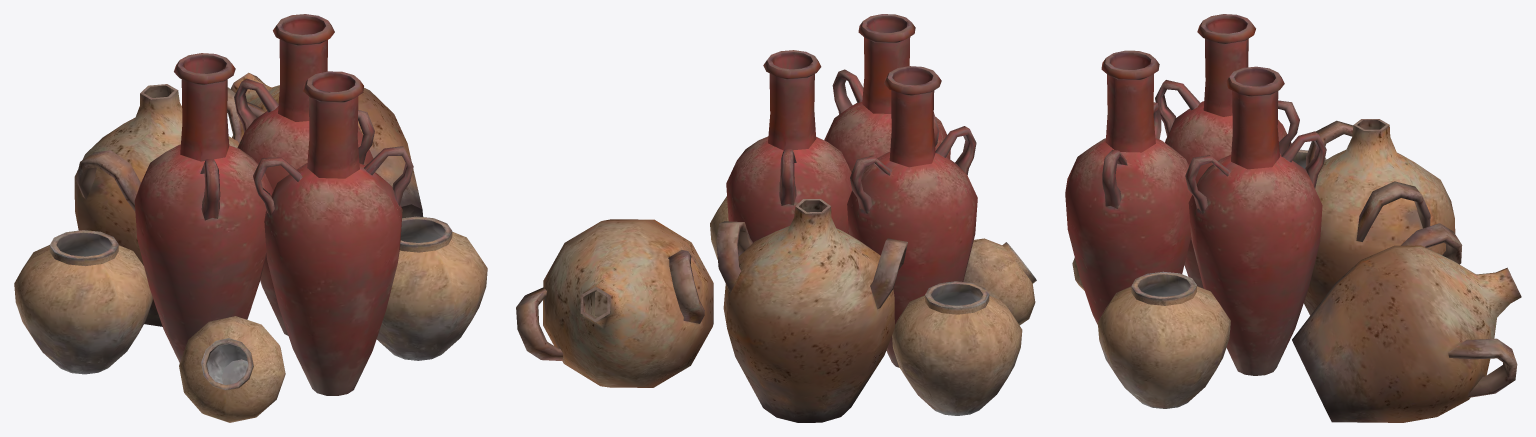
Rendered from SHO_General_Store_Pots-transformed.glb.
The picture shows the model from 3 angles, left to right: view 1: azimuth 30°, elevation 25°; view 2: azimuth 150°, elevation 25°; view 3: azimuth 270°, elevation 25°; orthographic projection. The views are drawn at different scales.
Visible parts, largest first — view 1: default; view 2: default; view 3: default.
Boxes of the visible parts, x1,y1,x2,y2 form: default: (14,14,487,422); default: (516,14,1036,422); default: (1065,14,1521,422).
Bounding box in the file's own units: 1.07 × 0.7263 × 1.02.
Materials: 1 (1 with a texture image).
